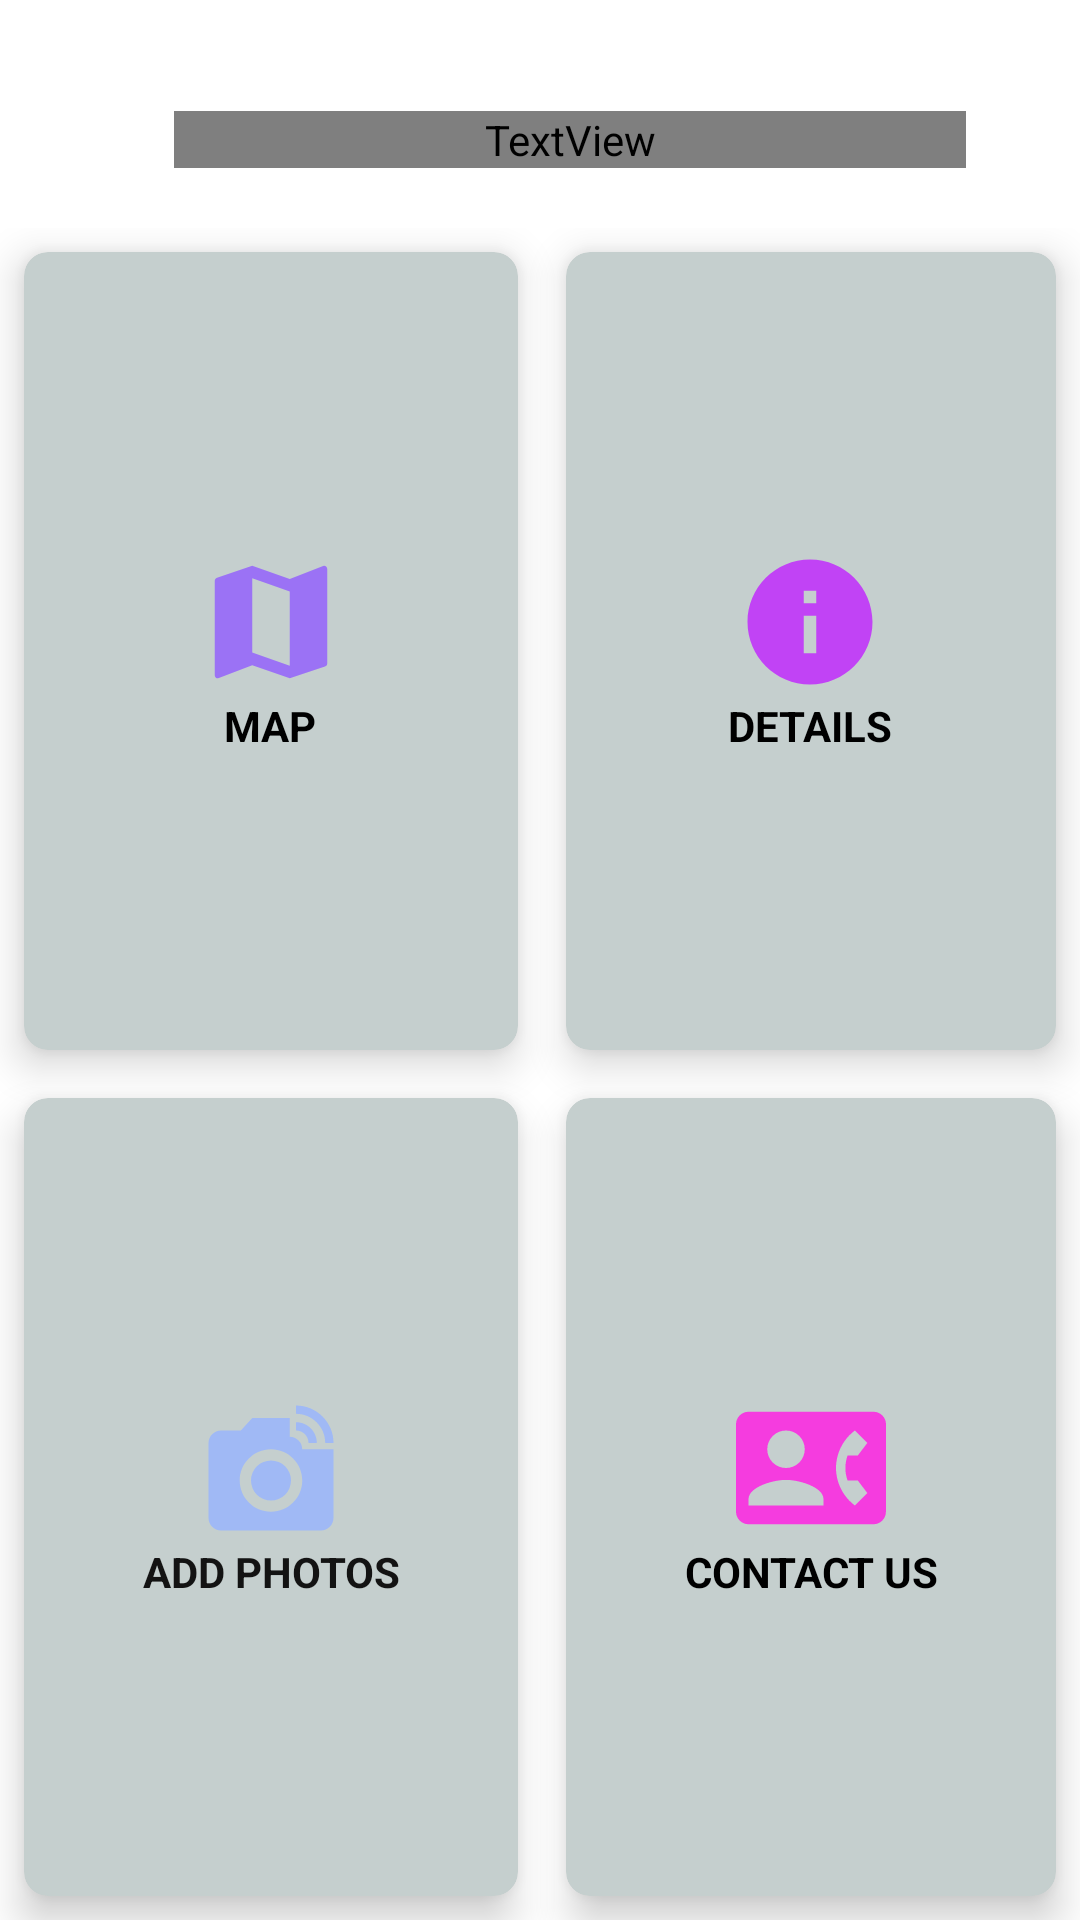

Named icons in this screenshot (1080x1920) and their centers, (x=x, y=y):
camicon: (x=271, y=1468)
infoicon: (x=810, y=622)
